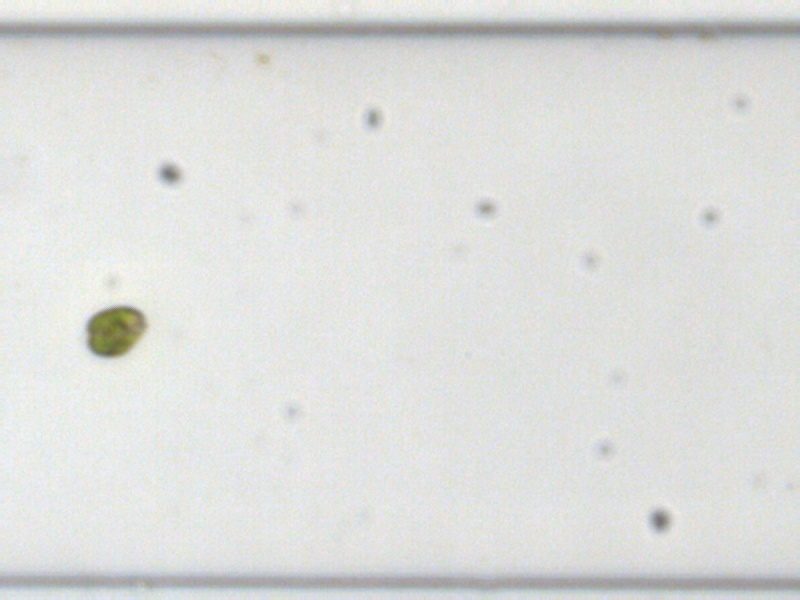Chlorella: (256, 51, 269, 65)
Platymonas: (82, 301, 150, 357)
